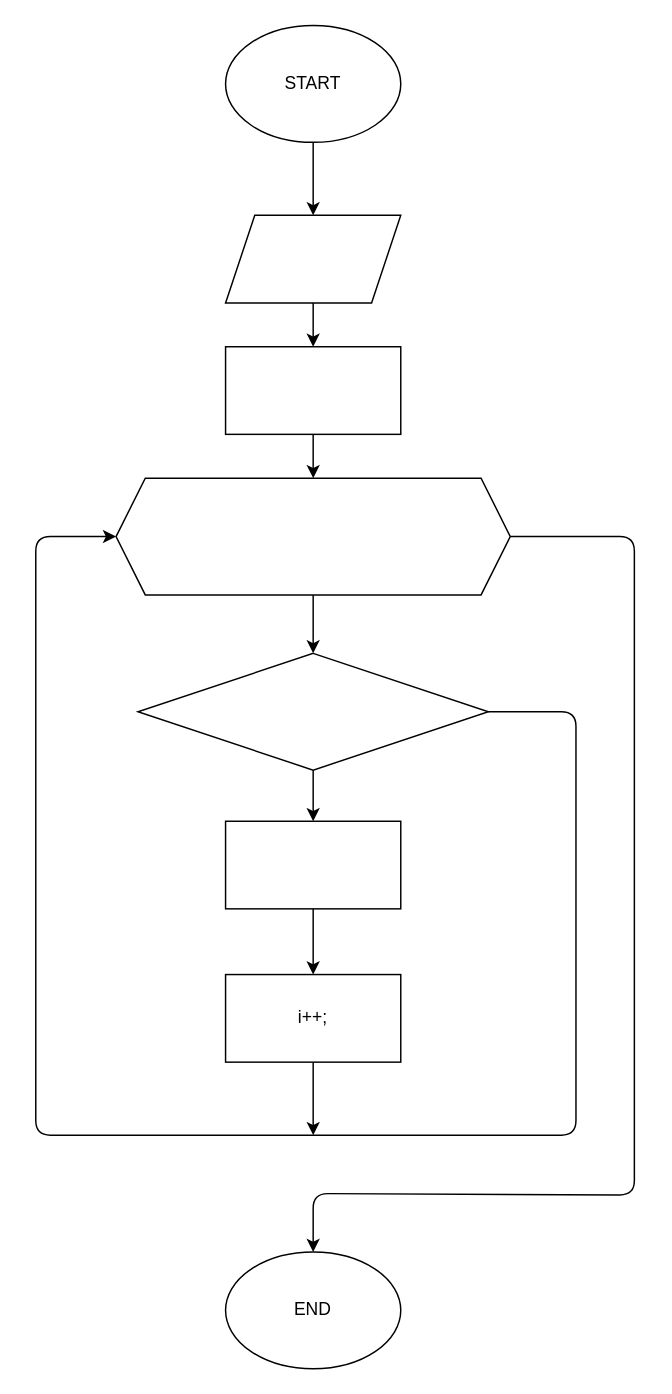
Some shapes in this 672 by 1394 pixel diagram are drawn without their labels. Here are the shapes that lost their labels. From the top down, the box of each, then its label:
(224, 214, 401, 303): Array
(224, 345, 401, 434): string[] OutPutArray int i =0;
(224, 820, 401, 909): OutPutArray[i] = stringArray;
